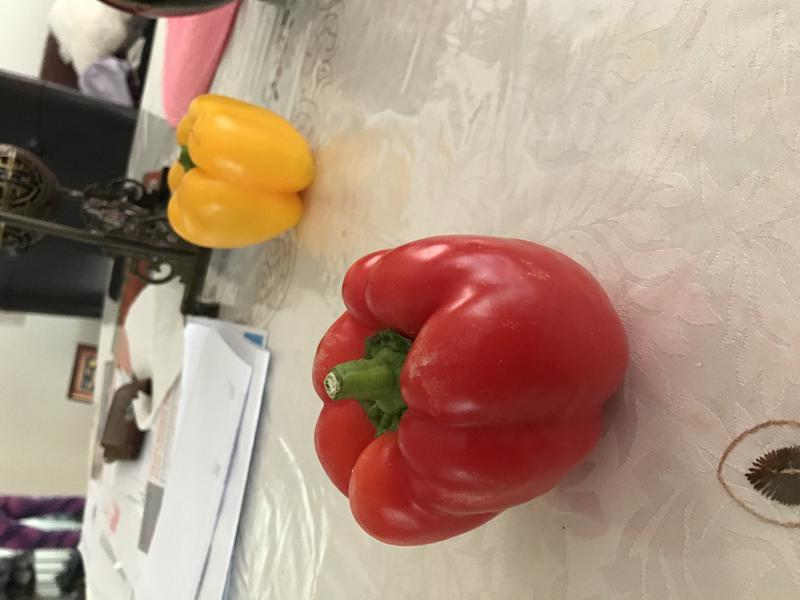red_pepper: (296, 221, 642, 554)
yellow_pepper: (157, 85, 316, 256)
